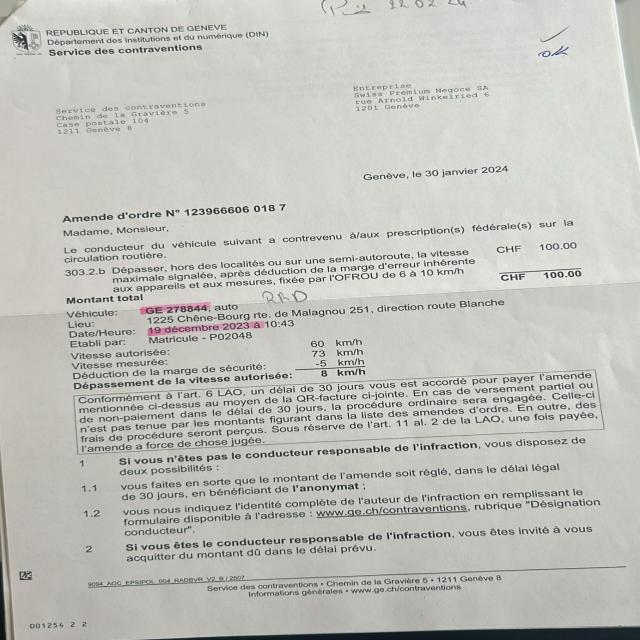paper-document-: (2, 0, 640, 639)
